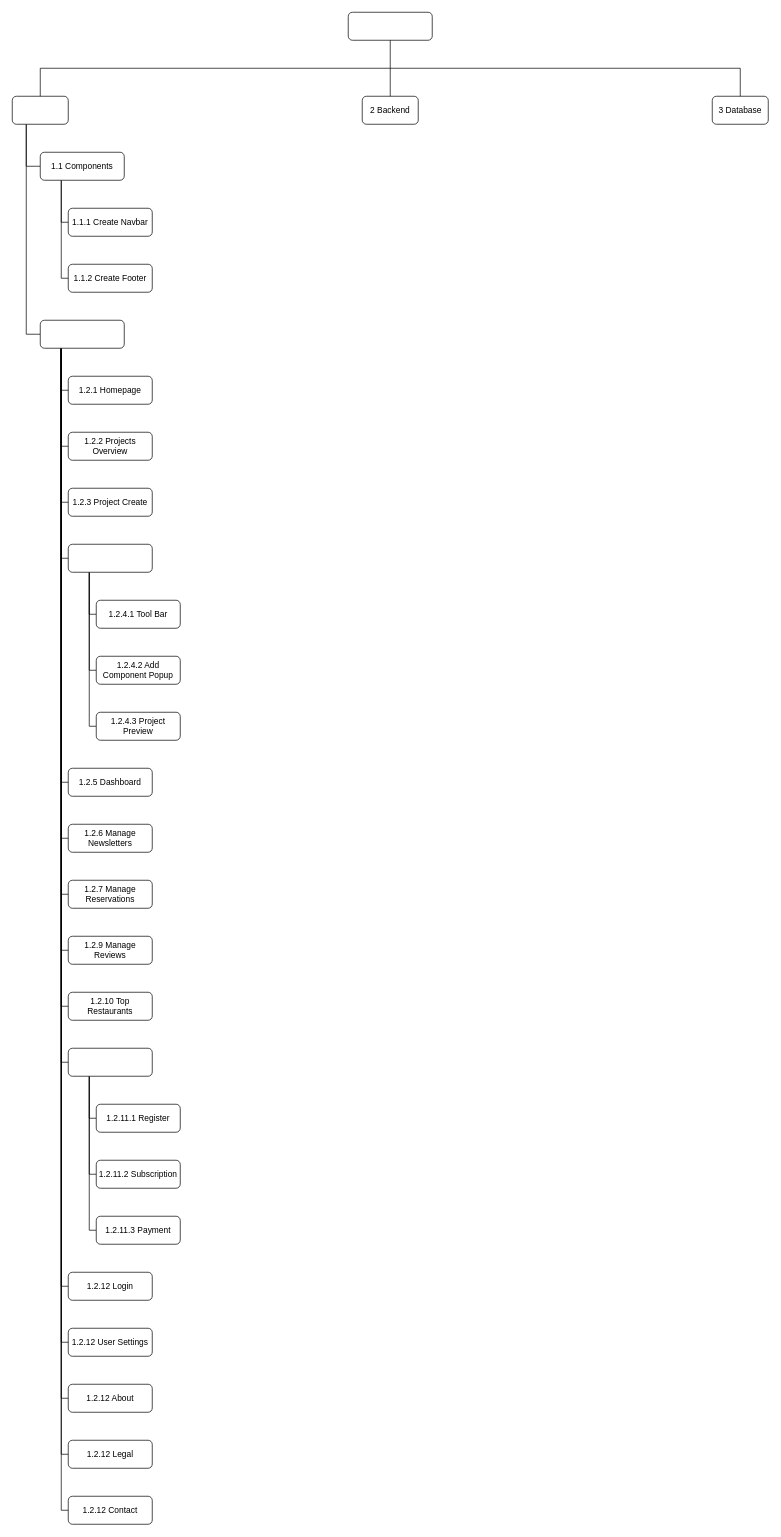
Image size: 781x1537. Some labels were removed from this diagram. Here are the shapes that lost their labels. From the top down, the box of each, then its label:
(348, 12, 432, 40): BiteSite PSP
(12, 96, 68, 124): 1 Frontend
(40, 320, 124, 348): 1.2 Views
(68, 544, 152, 572): 1.2.4 Project Editor
(68, 1048, 152, 1076): 1.2.11 Register Flow
